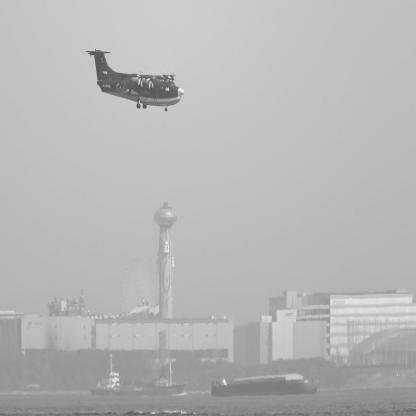US2: (86, 49, 186, 113)
